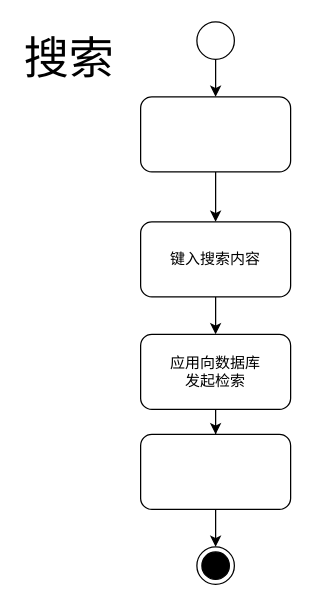
Some shapes in this 313 by 606 pixel diagram are drawn without their labels. Each missing label, with the centre of its shape:
用户点击搜索: (x=215, y=134)
结果显示在主界面: (x=215, y=471)
